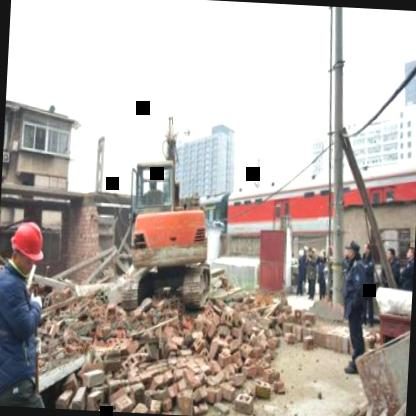helmet: (7, 216, 47, 274)
